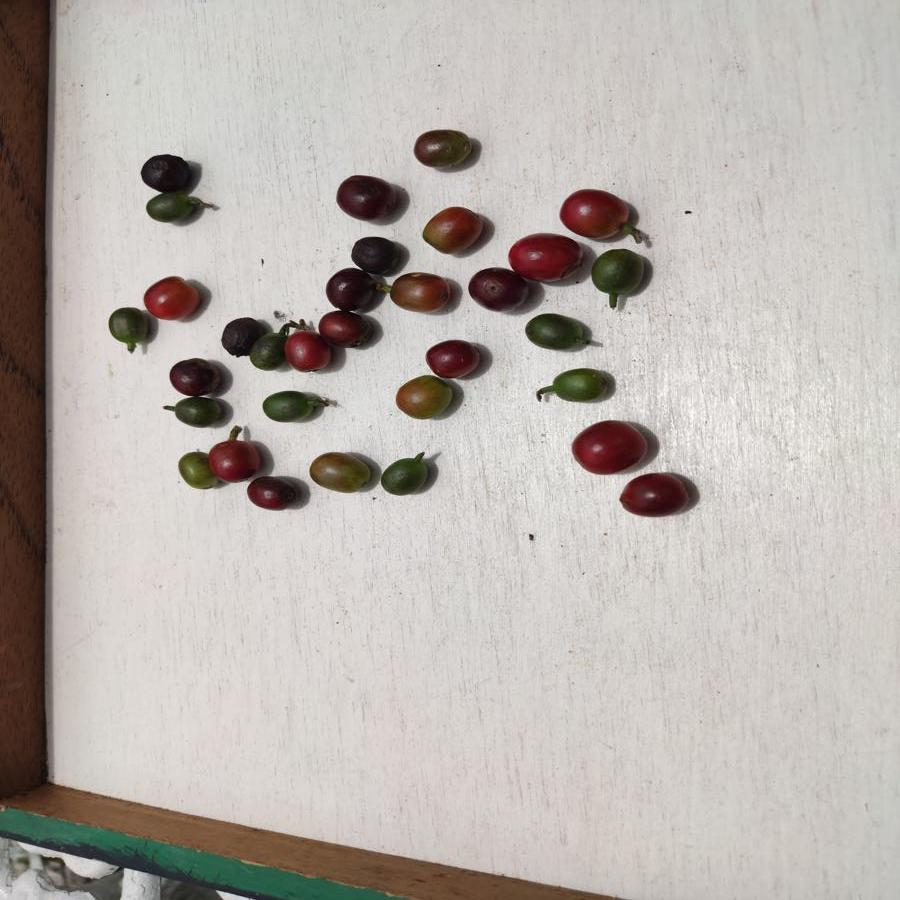Inmaduro: (589, 246, 648, 296), (524, 310, 589, 355), (552, 365, 609, 405), (104, 304, 149, 345), (382, 458, 429, 497), (170, 397, 225, 430), (257, 392, 313, 424), (143, 192, 200, 223), (250, 334, 288, 371)
Maduro: (557, 188, 635, 240), (571, 420, 647, 473), (504, 231, 583, 280), (142, 276, 202, 321), (426, 338, 480, 377), (210, 437, 258, 479)
Pinton: (421, 206, 484, 255), (307, 451, 371, 496), (388, 271, 452, 313), (396, 376, 452, 422), (411, 125, 470, 168), (175, 450, 213, 488)
Sobremaduro: (617, 474, 691, 519), (335, 173, 401, 220), (467, 265, 527, 312), (324, 263, 379, 312), (165, 356, 223, 397), (352, 232, 400, 277), (286, 327, 330, 373), (314, 313, 370, 349), (249, 475, 300, 512), (142, 153, 192, 190), (219, 315, 255, 357)
